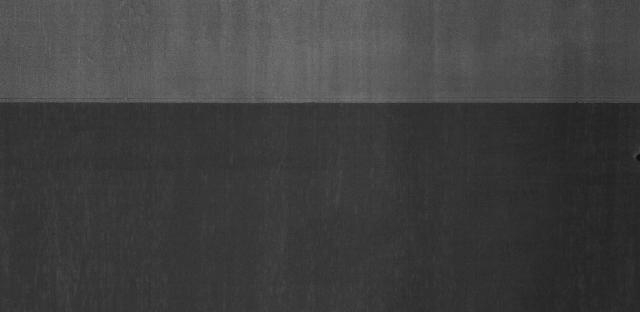punching_hole: (635, 152, 640, 163)
welding_line: (1, 96, 640, 113)
